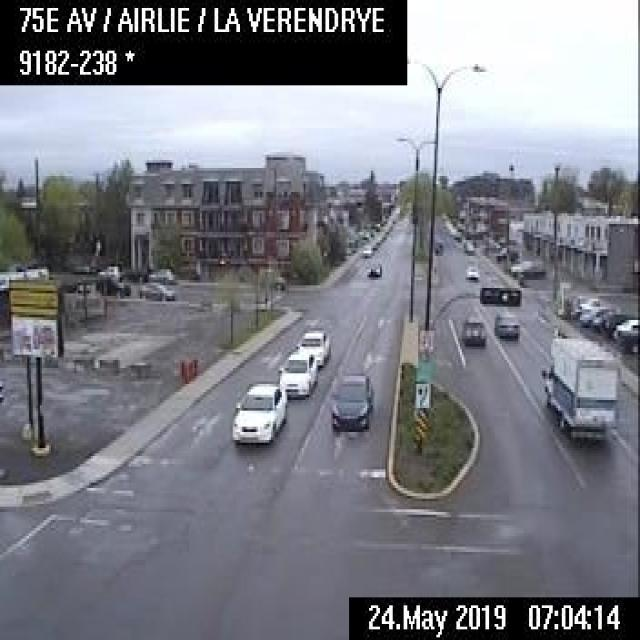construction: (178, 358, 184, 382), (186, 359, 192, 380), (191, 356, 197, 376), (182, 360, 186, 382)
vehicle: (538, 333, 618, 440), (229, 378, 286, 445), (326, 364, 374, 430), (274, 344, 318, 398), (296, 327, 329, 364), (458, 312, 487, 344), (491, 307, 522, 336), (95, 269, 127, 296), (136, 279, 174, 299), (510, 258, 545, 278), (612, 316, 638, 341), (592, 310, 626, 329), (578, 304, 612, 322), (576, 294, 606, 314), (146, 265, 172, 279), (464, 261, 480, 283), (496, 244, 518, 260), (364, 259, 382, 277), (462, 237, 476, 254), (360, 243, 372, 256)
